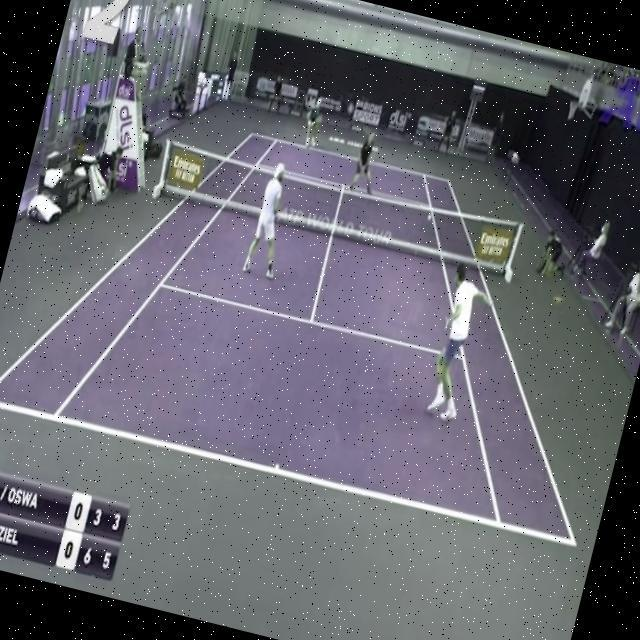court: (0, 80, 640, 552)
net: (156, 136, 524, 278)
player: (418, 260, 501, 431), (240, 158, 300, 280)
